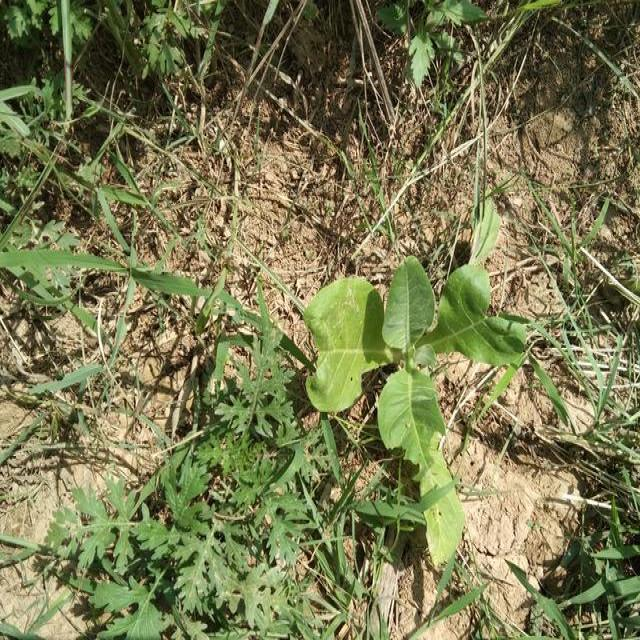crop: (292, 255, 508, 573)
